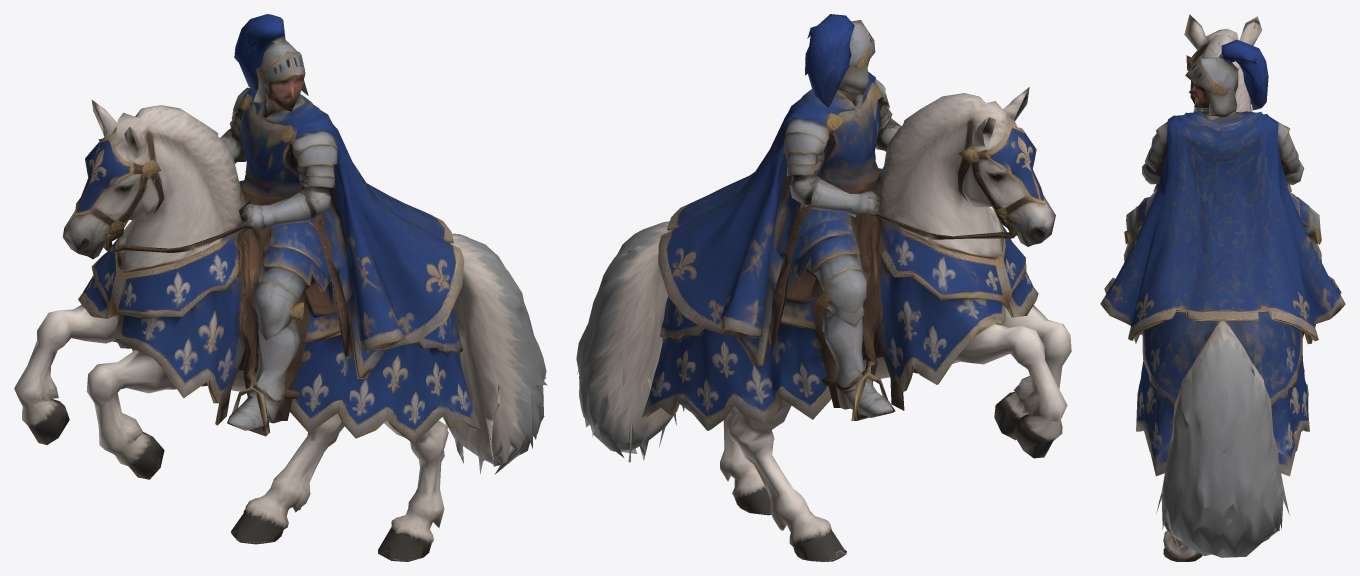
The model's file is original.glb.
3 renders of one model, left to right at view 1: azimuth 30°, elevation 25°; view 2: azimuth 150°, elevation 25°; view 3: azimuth 270°, elevation 25°, orthographic. The views are drawn at different scales.
Parts seen in each view (by area): view 1: tripo_node_737243ec-a4b9-4a95-b786-81f0f263880a; view 2: tripo_node_737243ec-a4b9-4a95-b786-81f0f263880a; view 3: tripo_node_737243ec-a4b9-4a95-b786-81f0f263880a.
Part boxes in pixels (bbox=[...]): tripo_node_737243ec-a4b9-4a95-b786-81f0f263880a: bbox=[14, 14, 547, 561]; tripo_node_737243ec-a4b9-4a95-b786-81f0f263880a: bbox=[576, 14, 1071, 561]; tripo_node_737243ec-a4b9-4a95-b786-81f0f263880a: bbox=[1100, 14, 1345, 561].
Size of the model in its own units: 0.9709 by 1 by 0.4747.
1 material, 1 textured.
